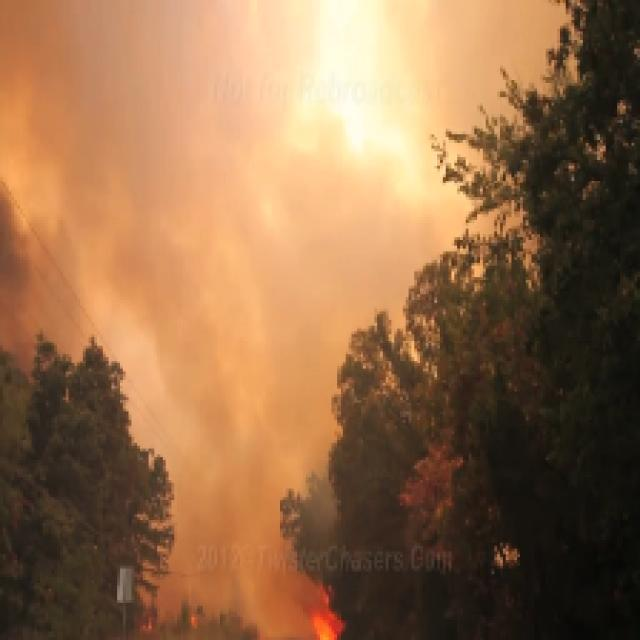Smoke: (74, 60, 323, 380)
